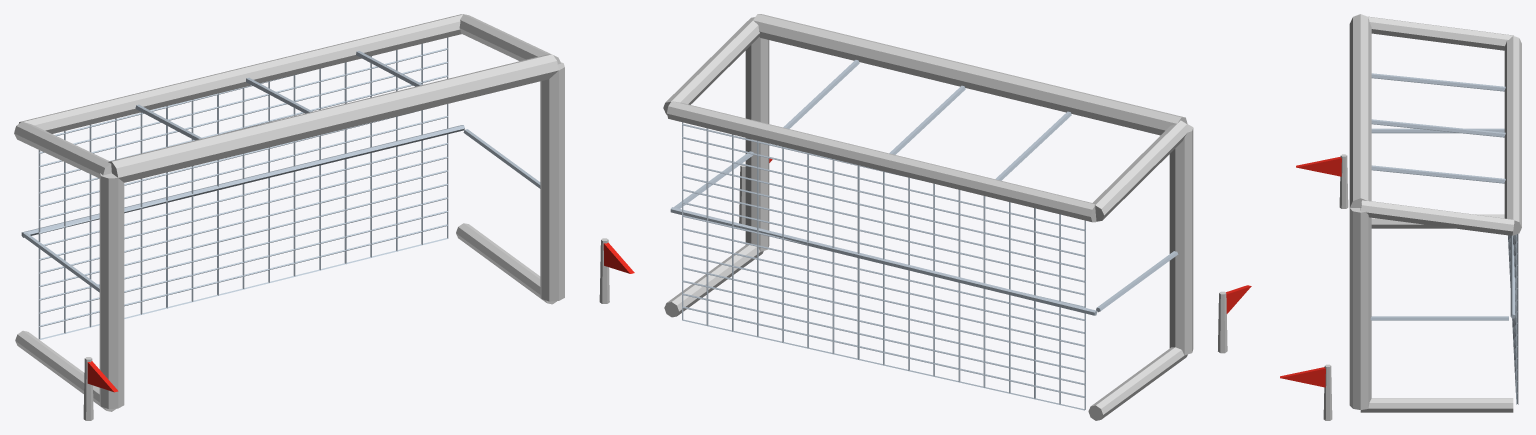
The model's file is goal.obj.
3 views of the same model, side by side, from view 1: azimuth 30°, elevation 25°; view 2: azimuth 150°, elevation 25°; view 3: azimuth 270°, elevation 25° (orthographic). The views are drawn at different scales.
Parts seen in each view (by area): view 1: Plane, goal.006, goal.007, goal, goal.003, goal.011, goal.001, goal.005, goal.004, goal.002, goal.014; view 2: Plane, goal.006, goal.007, goal, goal.003, goal.011, goal.001, goal.004, goal.002, goal.005, goal.009, goal.010 (+3 smaller); view 3: goal.003, goal.006, goal.007, goal.004, goal.001, goal.005, Plane, goal.008, goal.009, goal.010, goal.017, goal.002 (+6 smaller).
Boxes of the visible parts, x1=… form: Plane: x1=38, y1=37, x2=448, y2=339; goal.006: x1=108, y1=54, x2=558, y2=182; goal.007: x1=19, y1=14, x2=462, y2=133; goal: x1=99, y1=173, x2=124, y2=408; goal.003: x1=540, y1=62, x2=564, y2=301; goal.011: x1=21, y1=125, x2=464, y2=237; goal.001: x1=14, y1=121, x2=111, y2=178; goal.005: x1=456, y1=223, x2=556, y2=304; goal.004: x1=459, y1=14, x2=561, y2=64; goal.002: x1=15, y1=330, x2=116, y2=411; goal.014: x1=23, y1=232, x2=99, y2=292; Plane: x1=682, y1=122, x2=1085, y2=410; goal.006: x1=753, y1=14, x2=1187, y2=135; goal.007: x1=667, y1=101, x2=1096, y2=222; goal: x1=1169, y1=124, x2=1193, y2=355; goal.003: x1=745, y1=37, x2=769, y2=251; goal.011: x1=670, y1=207, x2=1097, y2=315; goal.001: x1=1092, y1=120, x2=1189, y2=221; goal.004: x1=663, y1=17, x2=759, y2=114; goal.002: x1=1088, y1=347, x2=1187, y2=420; goal.005: x1=664, y1=244, x2=763, y2=317; goal.009: x1=889, y1=85, x2=965, y2=154; goal.010: x1=783, y1=60, x2=859, y2=128; goal.003: x1=1349, y1=208, x2=1371, y2=409; goal.006: x1=1349, y1=14, x2=1371, y2=207; goal.007: x1=1504, y1=36, x2=1521, y2=235; goal.004: x1=1360, y1=200, x2=1514, y2=235; goal.001: x1=1368, y1=16, x2=1513, y2=50; goal.005: x1=1360, y1=398, x2=1513, y2=412; Plane: x1=1508, y1=234, x2=1518, y2=404; goal.008: x1=1371, y1=73, x2=1505, y2=91; goal.009: x1=1371, y1=119, x2=1505, y2=137; goal.010: x1=1371, y1=165, x2=1505, y2=183; goal.017: x1=1370, y1=316, x2=1508, y2=320; goal.002: x1=1371, y1=214, x2=1504, y2=228.
Size of the model in its own units: 2.33 by 1.08 by 1.11.
